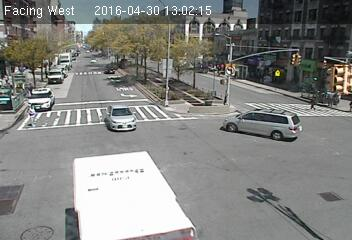neg: (211, 108, 231, 135), (23, 63, 39, 84), (156, 85, 172, 105), (112, 107, 127, 127), (18, 46, 31, 63), (60, 50, 71, 63), (63, 63, 73, 77), (217, 86, 227, 100), (104, 66, 111, 76), (84, 56, 91, 66)
pos: (23, 102, 42, 128), (308, 94, 320, 111), (24, 82, 36, 97), (325, 94, 336, 108), (41, 66, 51, 80)
